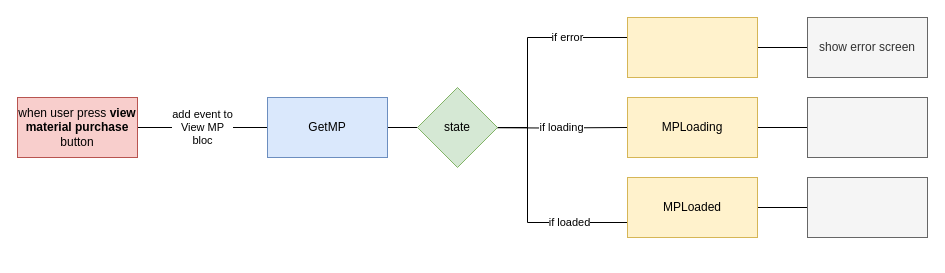
The diagram is 945 pixels wide and 273 high, and some of its shapes have lost their labels. Each missing label, with the box of its shape:
build MP Table: (806, 176, 928, 238)
loading indicator: (806, 96, 928, 158)
MPError: (626, 16, 758, 78)
